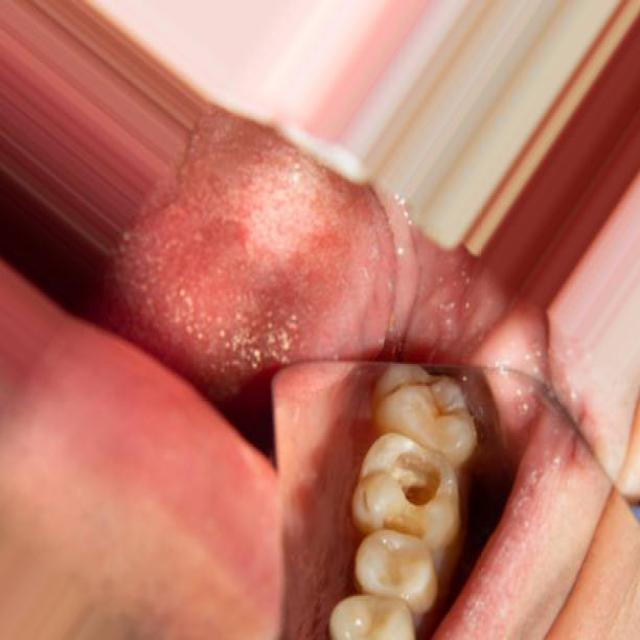caries: (374, 419, 467, 534)
